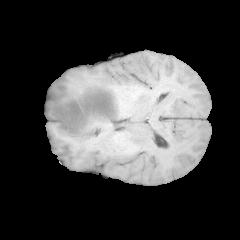glioma: (45, 77, 127, 138)
